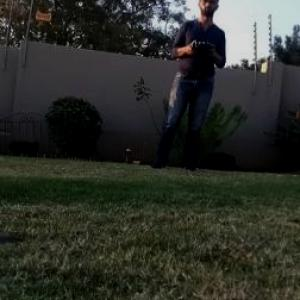follow: (144, 0, 230, 178)
